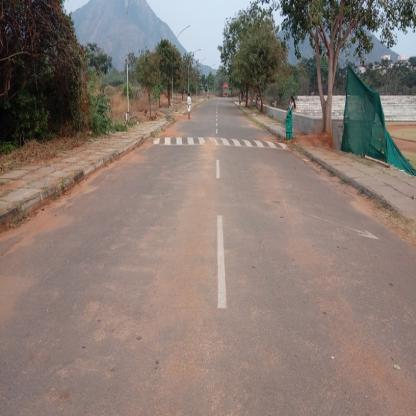speed-bumps: (144, 128, 293, 156)
